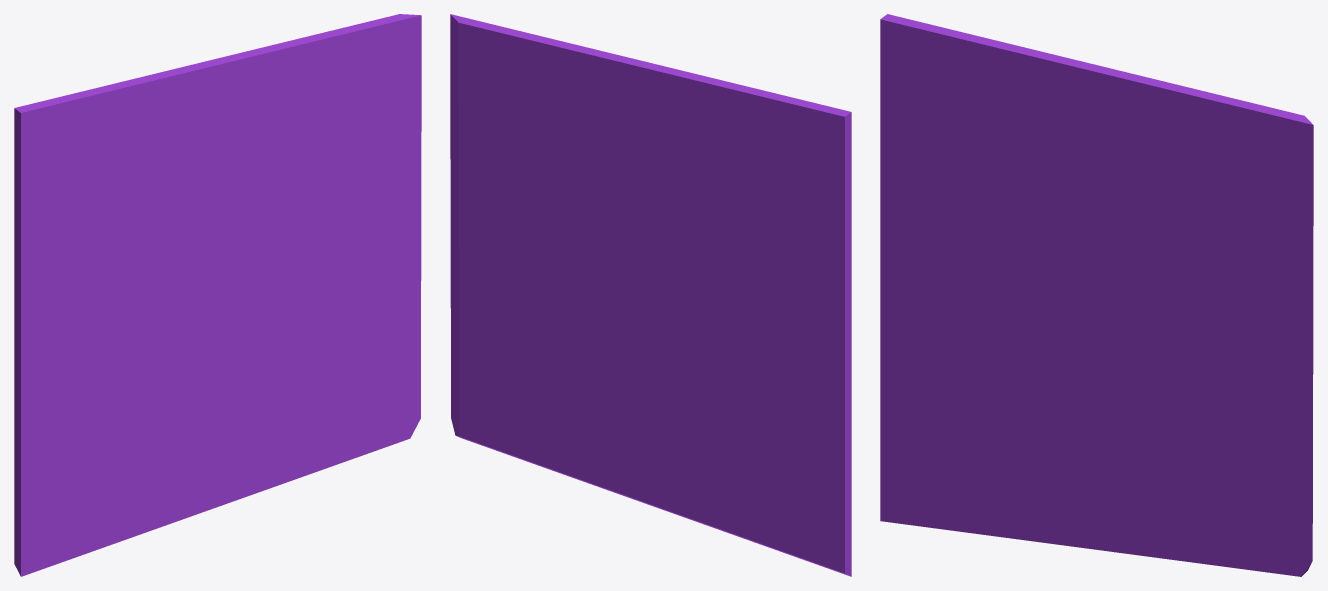
The model's file is Window_37_2_chunks.fbx.
3 views of the same model, side by side, from view 1: azimuth 30°, elevation 25°; view 2: azimuth 150°, elevation 25°; view 3: azimuth 330°, elevation 25° (orthographic). The views are drawn at different scales.
Visible parts, largest first — view 1: Window_37_2_10, Window_37_2_8, Window_37_2_2, Window_37_2_3, Window_37_2_4, Window_37_2_6, Window_37_2_9, Window_37_2_5, Window_37_2_11, Window_37_2_15, Window_37_2_12, Window_37_2_1 (+4 smaller); view 2: Window_37_2_10, Window_37_2_8, Window_37_2_3, Window_37_2_2, Window_37_2_11, Window_37_2_4, Window_37_2_9, Window_37_2_6, Window_37_2_1, Window_37_2_5, Window_37_2_15, Window_37_2_7 (+3 smaller); view 3: Window_37_2_10, Window_37_2_8, Window_37_2_2, Window_37_2_3, Window_37_2_4, Window_37_2_6, Window_37_2_9, Window_37_2_5, Window_37_2_11, Window_37_2_15, Window_37_2_12, Window_37_2_1 (+4 smaller).
Part boxes in pixels (x1,y1,x2,y2): Window_37_2_10: [229, 14, 421, 241]; Window_37_2_8: [14, 88, 231, 284]; Window_37_2_2: [14, 388, 230, 576]; Window_37_2_3: [14, 244, 219, 400]; Window_37_2_4: [167, 304, 271, 502]; Window_37_2_6: [264, 357, 419, 487]; Window_37_2_9: [149, 197, 330, 311]; Window_37_2_5: [260, 179, 396, 369]; Window_37_2_11: [84, 45, 269, 176]; Window_37_2_15: [360, 155, 421, 303]; Window_37_2_12: [342, 301, 420, 419]; Window_37_2_1: [14, 382, 120, 475]; Window_37_2_10: [450, 14, 627, 239]; Window_37_2_8: [648, 87, 851, 284]; Window_37_2_3: [648, 249, 851, 399]; Window_37_2_2: [642, 410, 851, 576]; Window_37_2_11: [588, 52, 775, 204]; Window_37_2_4: [595, 306, 697, 502]; Window_37_2_9: [531, 196, 723, 315]; Window_37_2_6: [451, 367, 601, 486]; Window_37_2_1: [697, 386, 851, 485]; Window_37_2_5: [477, 188, 609, 338]; Window_37_2_15: [450, 154, 508, 303]; Window_37_2_7: [523, 328, 608, 414]; Window_37_2_10: [1106, 81, 1313, 322]; Window_37_2_8: [880, 14, 1108, 272]; Window_37_2_2: [880, 380, 1106, 550]; Window_37_2_3: [880, 168, 1095, 394]; Window_37_2_4: [1038, 331, 1151, 556]; Window_37_2_6: [1143, 449, 1311, 576]; Window_37_2_9: [1019, 222, 1215, 354]; Window_37_2_5: [1139, 289, 1286, 452]; Window_37_2_11: [962, 32, 1163, 197]; Window_37_2_15: [1247, 276, 1313, 419]; Window_37_2_12: [1228, 412, 1312, 561]; Window_37_2_1: [880, 331, 988, 383].
Size of the model in its own units: 933 by 1032 by 27.2.
